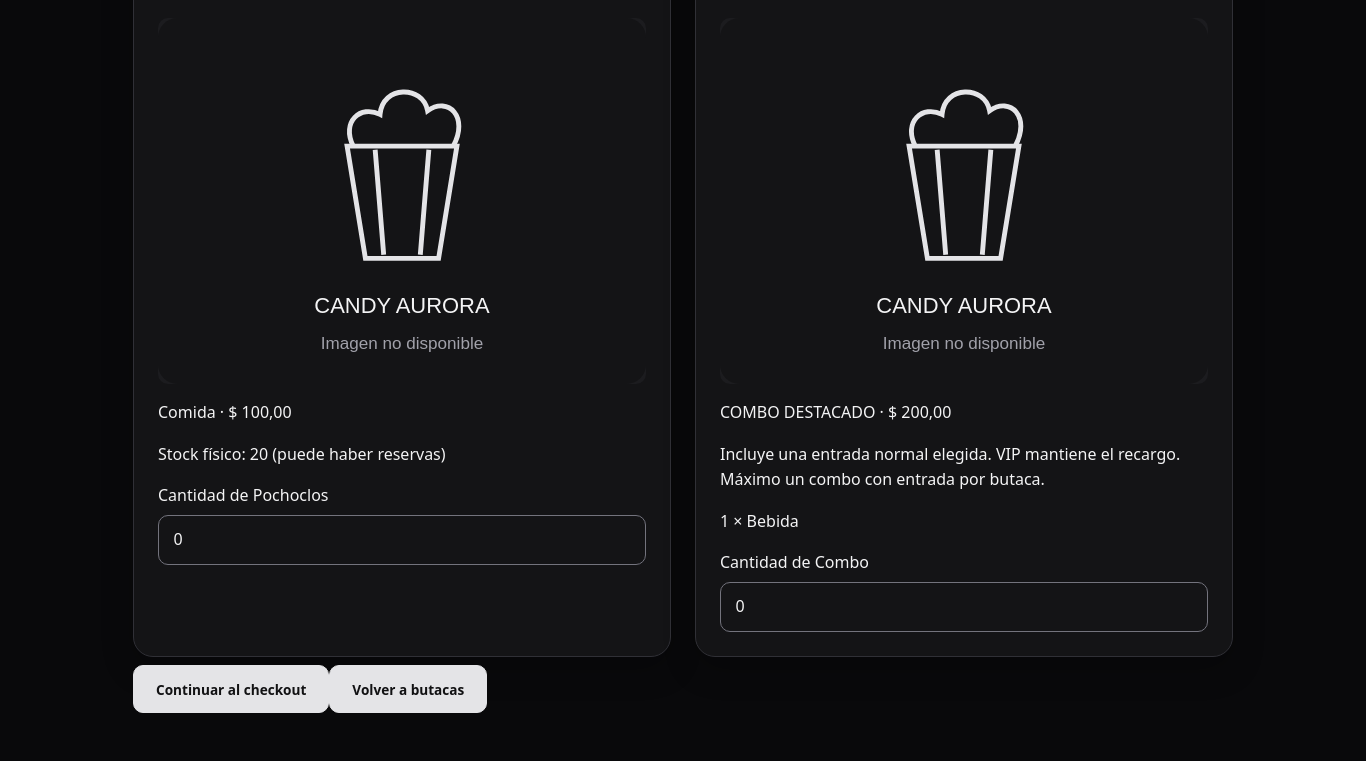
Scenario: Cantidades visibles y pedido de candy coherentes › corregir otro producto no oculta el error pendiente ni permite navegar
(page scrolled)
In the number field labelled "Cantidad de Pochoclos": {"x": 402, "y": 540} top-left (158, 515), bottom-right (646, 565), type "21"
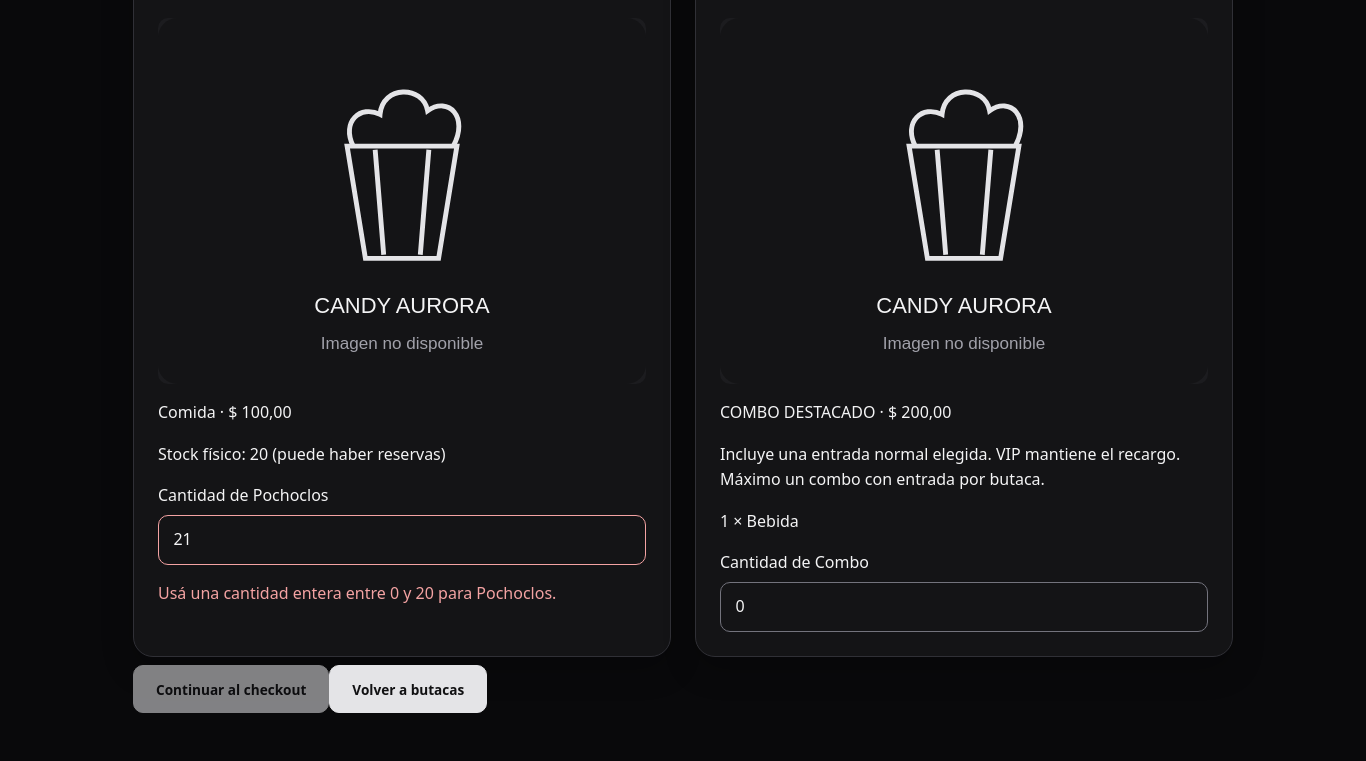
In the number field labelled "Cantidad de Combo": {"x": 964, "y": 607} top-left (720, 582), bottom-right (1208, 632), type "2"
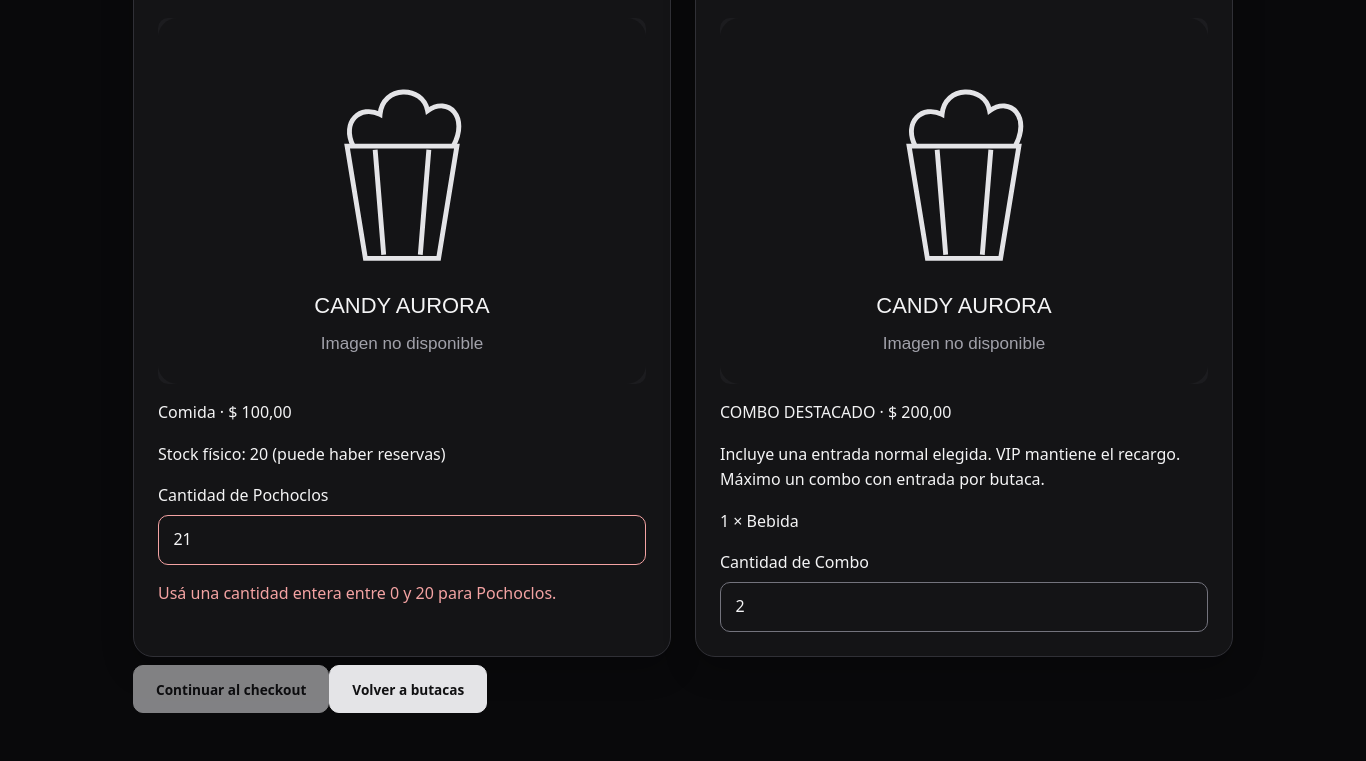
Expected: the button "Continuar al checkout" is disabled, top-left (133, 665), bottom-right (329, 713)
Expected: the message "Usá una cantidad entera entre 0 y 20 para Pochoclos." is shown, top-left (158, 582), bottom-right (556, 604)
Clear the number field labelled "Cantidad de Pochoclos": {"x": 402, "y": 540} top-left (158, 515), bottom-right (646, 565)
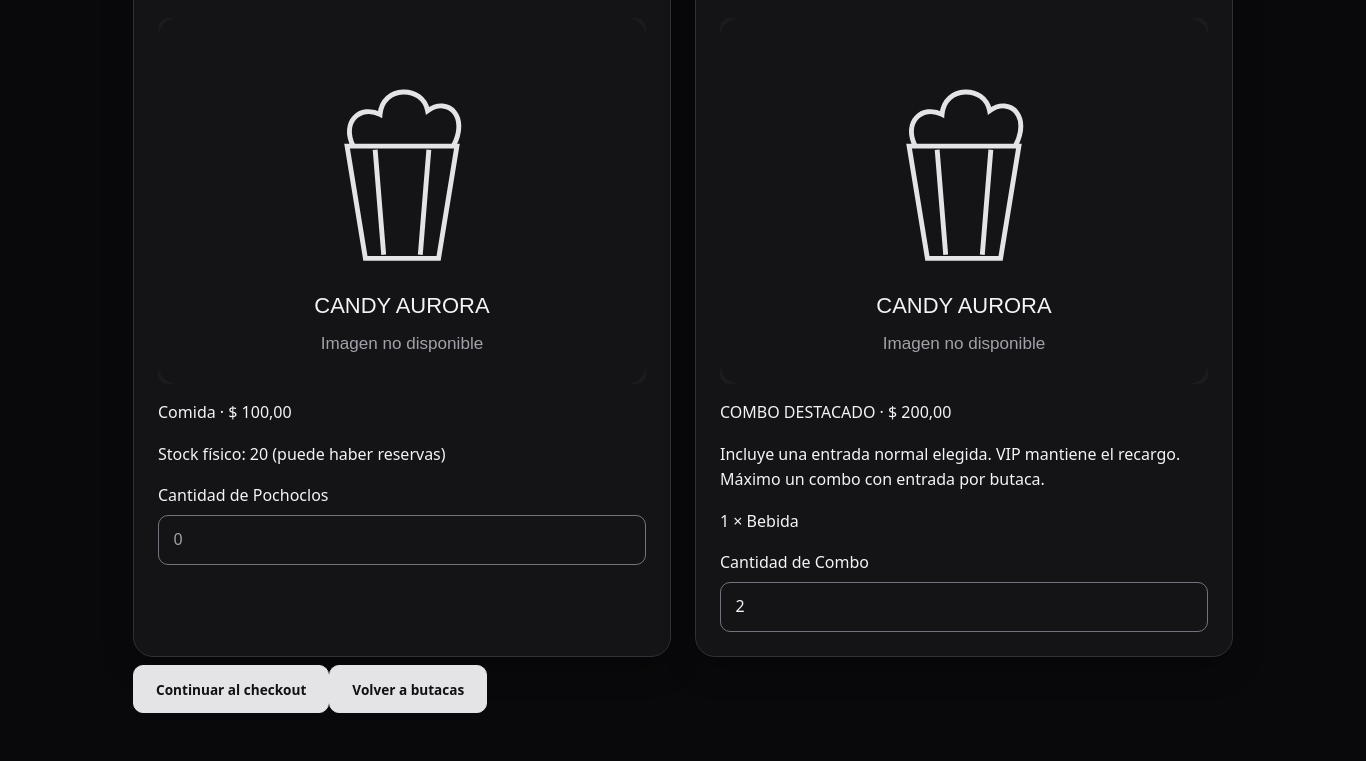
Expected: the button "Continuar al checkout" is enabled, top-left (133, 665), bottom-right (329, 713)
